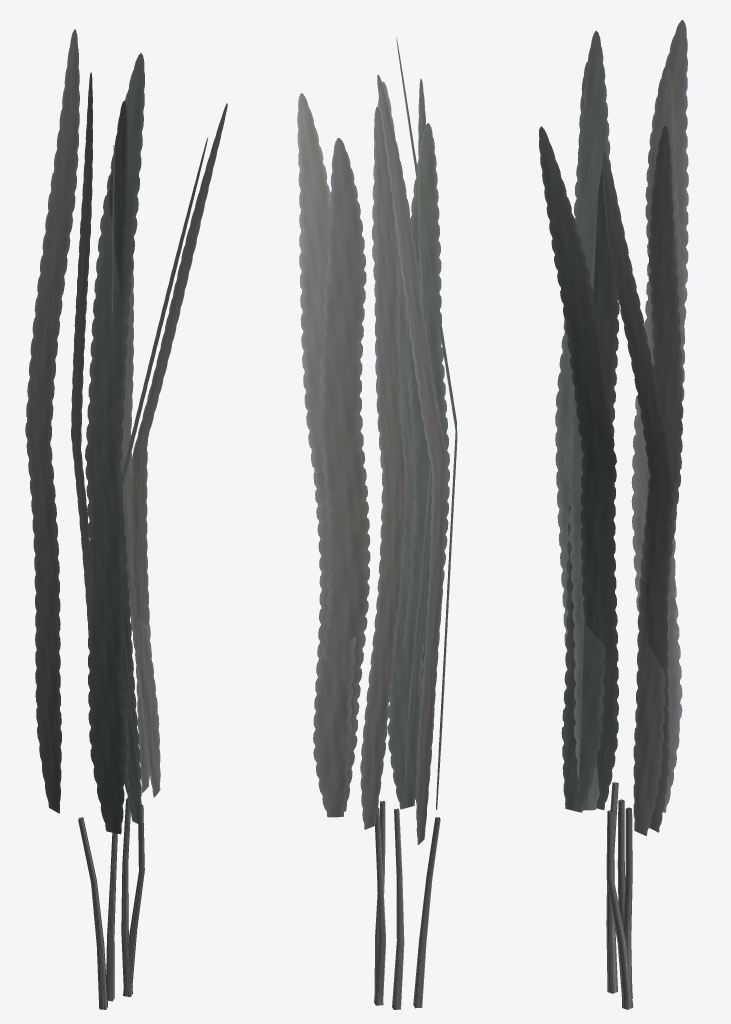
The model's file is kelp_l1.gltf.
3 views of the same model, side by side, from view 1: azimuth 30°, elevation 25°; view 2: azimuth 150°, elevation 25°; view 3: azimuth 270°, elevation 25° (orthographic). The views are drawn at different scales.
Visible parts, largest first — view 1: kelp_l1; view 2: kelp_l1; view 3: kelp_l1.
Part boxes in pixels (bbox=[...]): kelp_l1: bbox=[25, 29, 227, 1009]; kelp_l1: bbox=[297, 37, 457, 1009]; kelp_l1: bbox=[539, 20, 688, 1009].
Size of the model in its own units: 1.28 by 6.12 by 1.22.
1 material, 1 textured.
